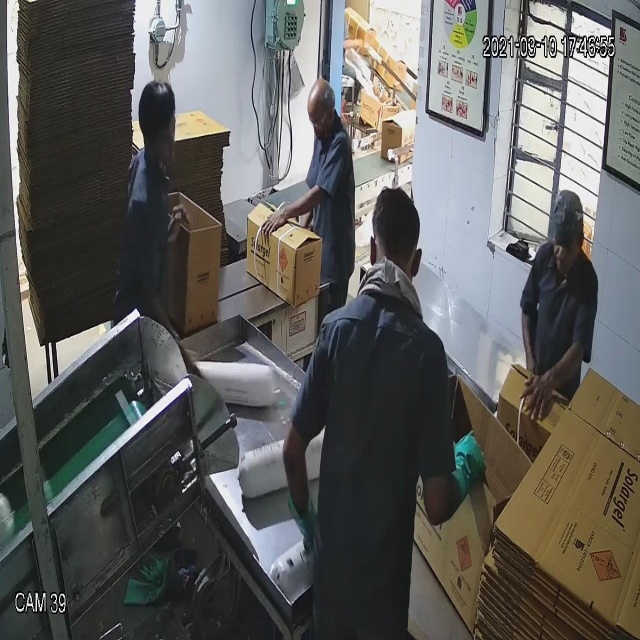Guantes: (440, 419, 494, 513)
Sin_guantes: (517, 323, 593, 442), (248, 190, 339, 255)
